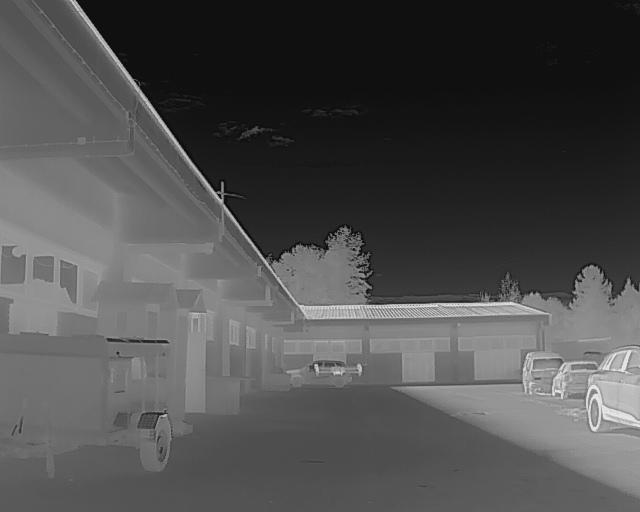drone: (302, 357, 373, 390)
